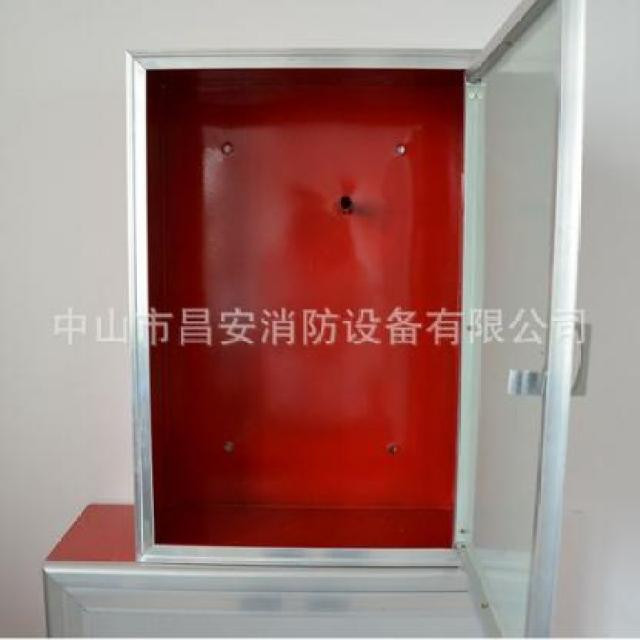firehydrant: (122, 0, 592, 640)
